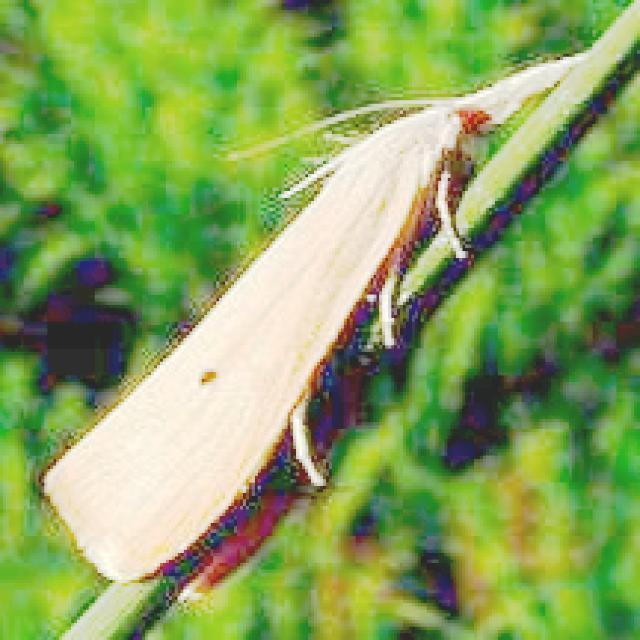stem-borer: (41, 44, 599, 585)
